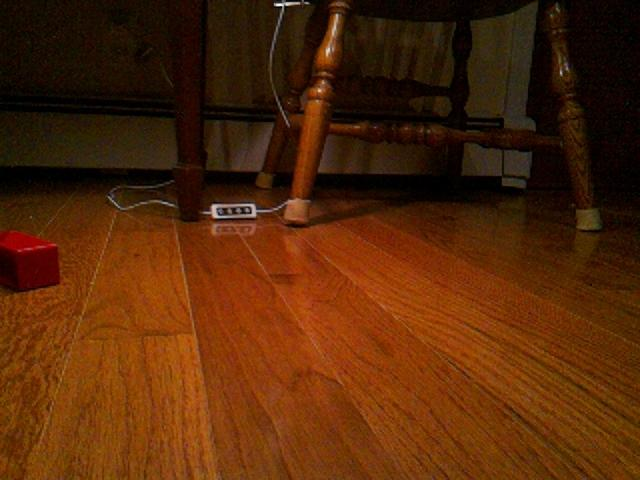red: (1, 228, 62, 293)
